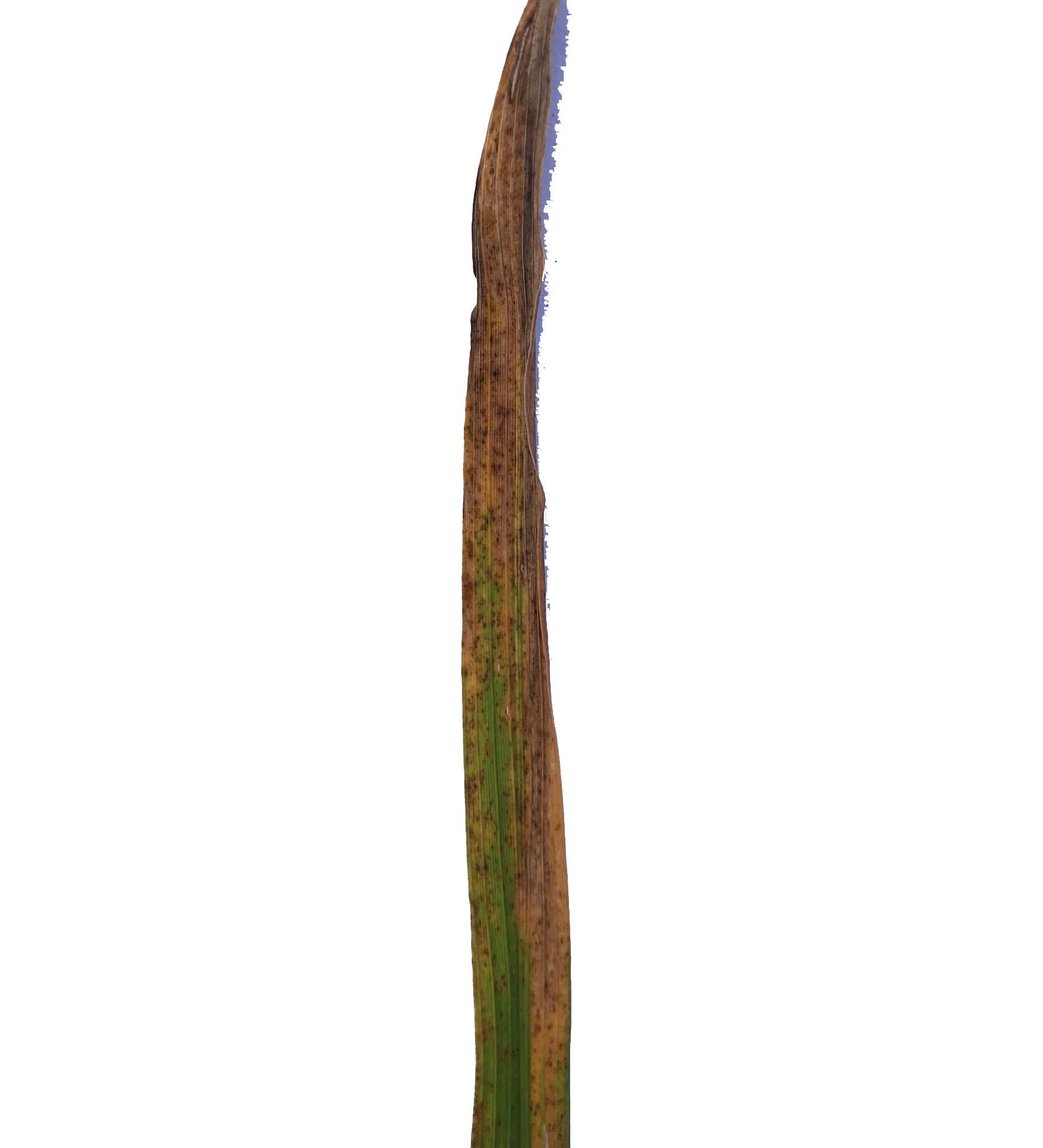Tungro: (459, 0, 573, 1148)
